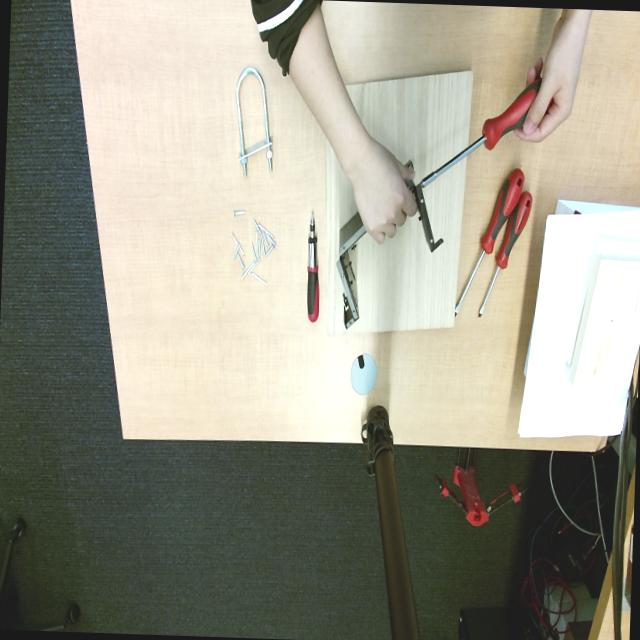screwdriver: (418, 79, 541, 190), (454, 169, 524, 314), (478, 191, 532, 317), (307, 213, 319, 322)
